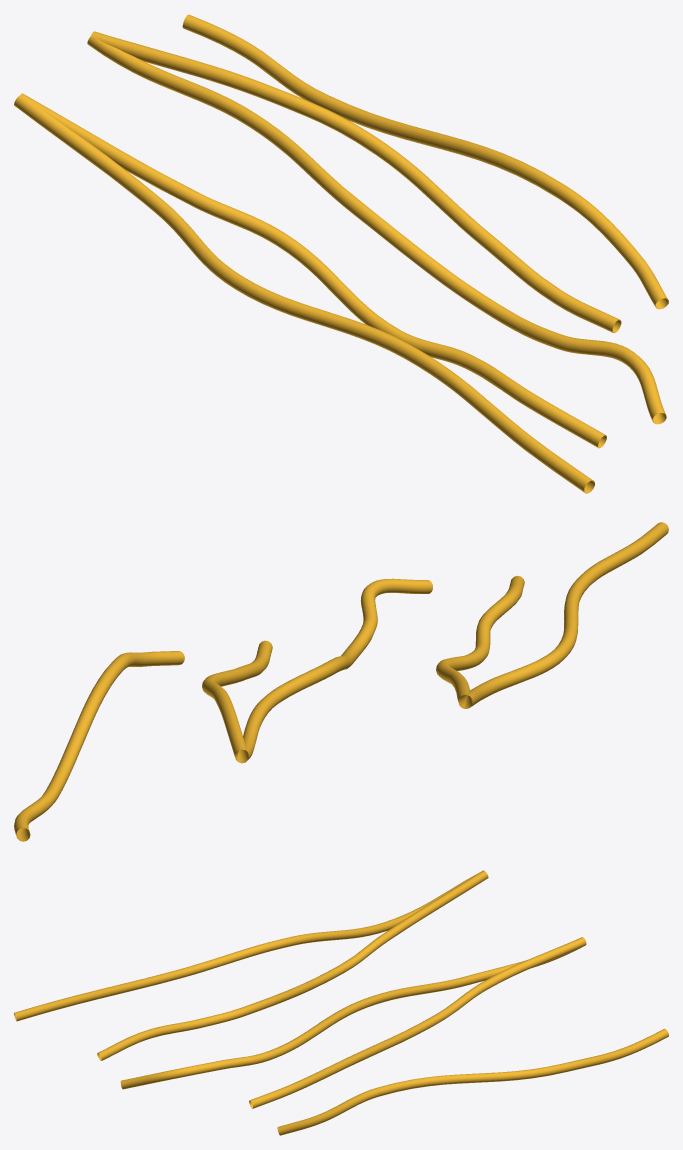
Rendered from nervoso-proper-plantar-digital-branches-of-lateral-plantar-nerve-l.glb.
3 renders of one model, top to bottom at view 1: azimuth 30°, elevation 25°; view 2: azimuth 150°, elevation 25°; view 3: azimuth 270°, elevation 25°, orthographic. The views are drawn at different scales.
Parts seen in each view (by area): view 1: Proper plantar digital branches of lateral plantar nerve.l; view 2: Proper plantar digital branches of lateral plantar nerve.l; view 3: Proper plantar digital branches of lateral plantar nerve.l.
Part boxes in pixels (x1,y1,x2,y2): Proper plantar digital branches of lateral plantar nerve.l: (14,14,668,493); Proper plantar digital branches of lateral plantar nerve.l: (14,522,668,841); Proper plantar digital branches of lateral plantar nerve.l: (14,870,668,1135).
Size of the model in its own units: 0.0374 by 0.0151 by 0.0716.
